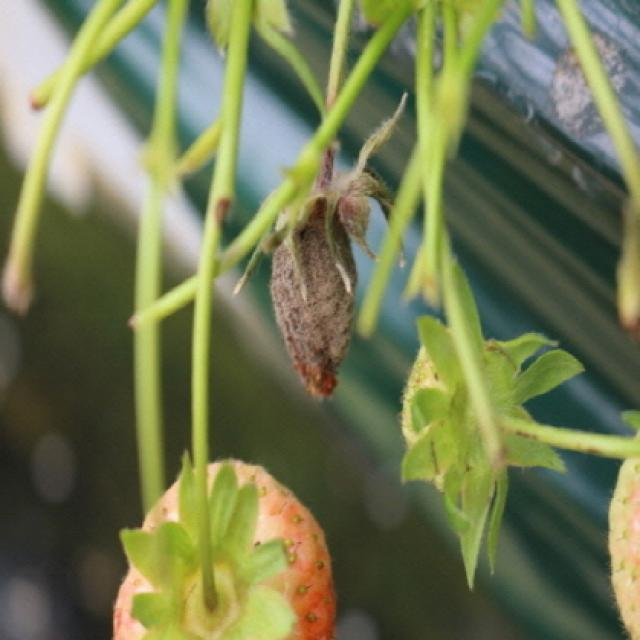Gray Mold: (269, 132, 392, 403)
